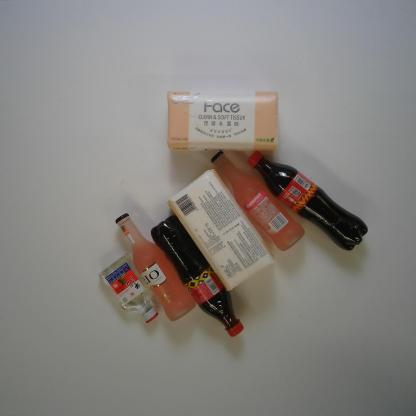Alcohol: (211, 150, 306, 252), (114, 212, 197, 322), (98, 252, 159, 324)
Drink: (246, 151, 368, 252), (151, 216, 244, 338)
Tissue: (166, 169, 276, 292), (167, 91, 278, 151)
